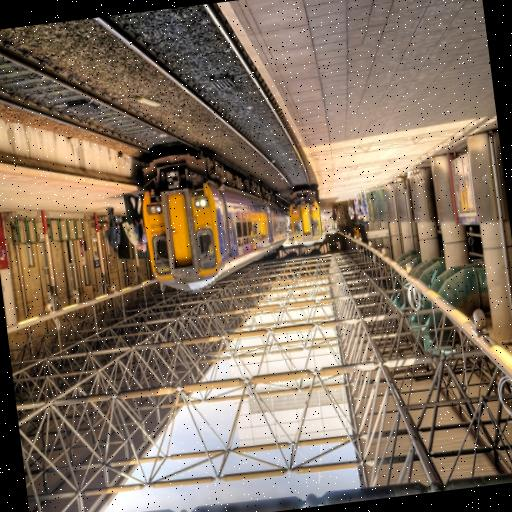platform_edge: (207, 0, 342, 202)
